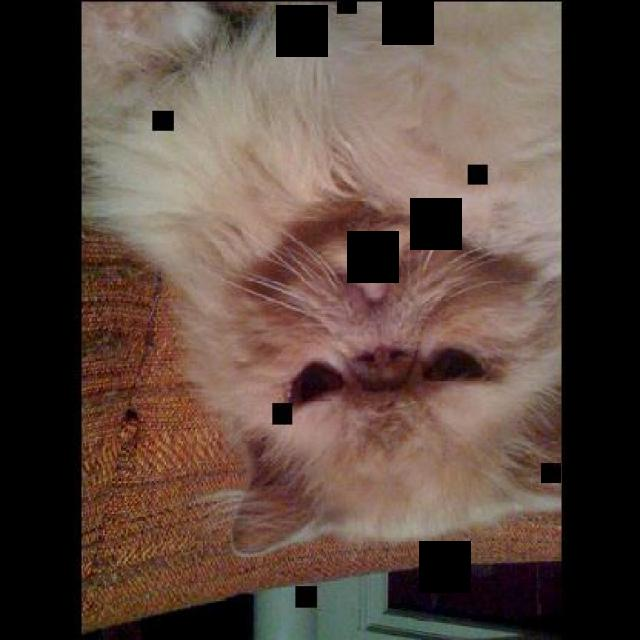unauthorized: (80, 0, 562, 557)
